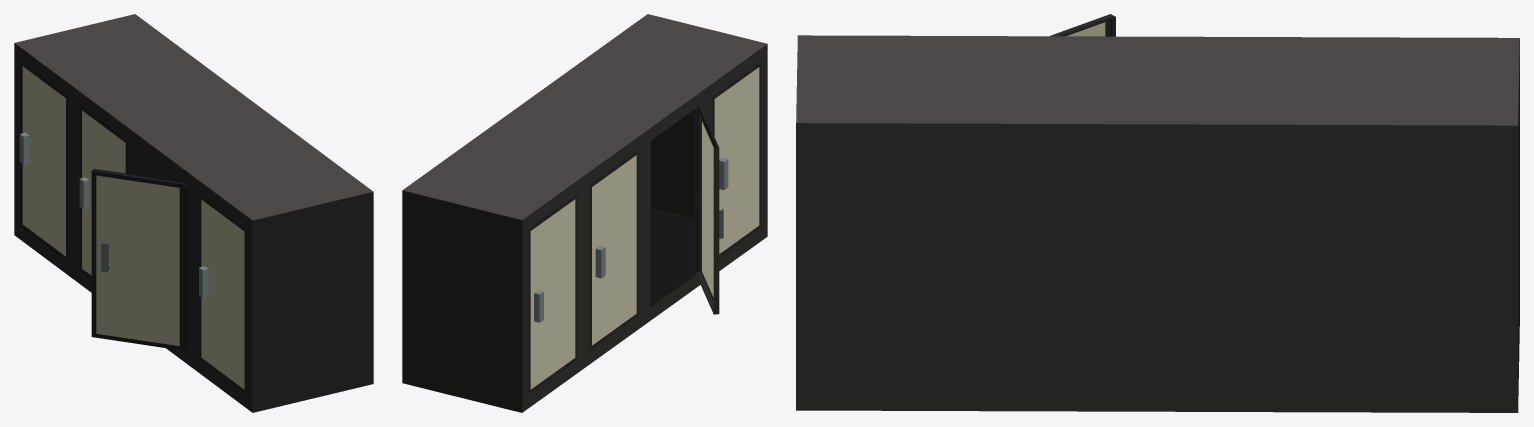
File: SM_Prop_Cabinets_modified_opened.fbx
3 views of the same model, side by side, from view 1: azimuth 30°, elevation 25°; view 2: azimuth 150°, elevation 25°; view 3: azimuth 270°, elevation 25° (orthographic). The views are drawn at different scales.
Parts seen in each view (by area): view 1: SM_Prop_Cabinets_modified_opened; view 2: SM_Prop_Cabinets_modified_opened; view 3: SM_Prop_Cabinets_modified_opened.
Part boxes in pixels (<box>): SM_Prop_Cabinets_modified_opened: <box>14,14,373,412</box>; SM_Prop_Cabinets_modified_opened: <box>402,14,767,412</box>; SM_Prop_Cabinets_modified_opened: <box>796,14,1519,412</box>.
Bounding box in the file's own units: 173 × 176 × 403.
Materials: 1 (1 with a texture image).
